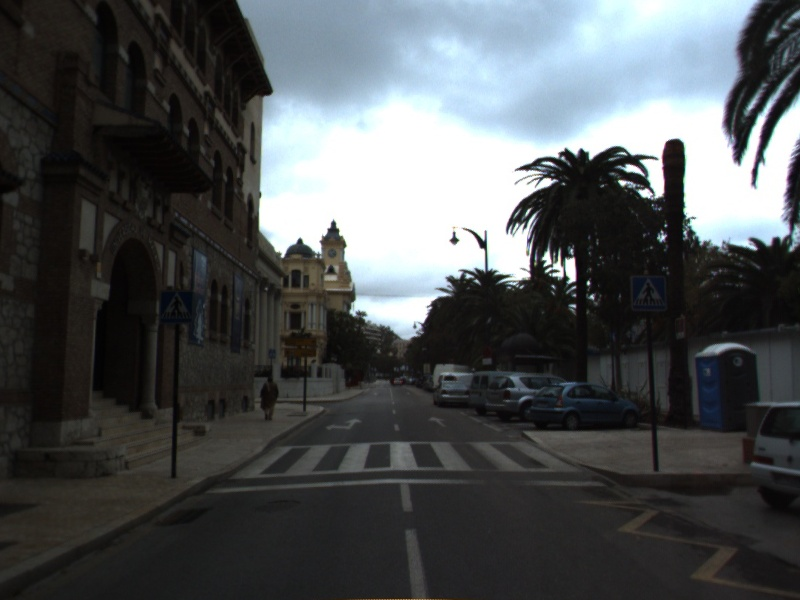STRAIGHT: (426, 414, 450, 429)
STRAIGHT_LEFT: (323, 416, 365, 433)
